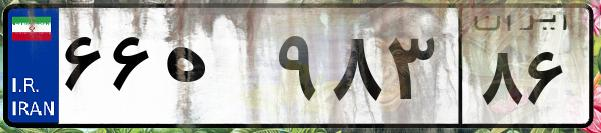3: (385, 28, 445, 110)
6: (57, 26, 110, 100), (525, 38, 570, 115), (110, 28, 158, 98)
8: (330, 28, 385, 110), (475, 38, 525, 113)
9: (270, 28, 330, 110)
ه: (158, 20, 270, 120)
